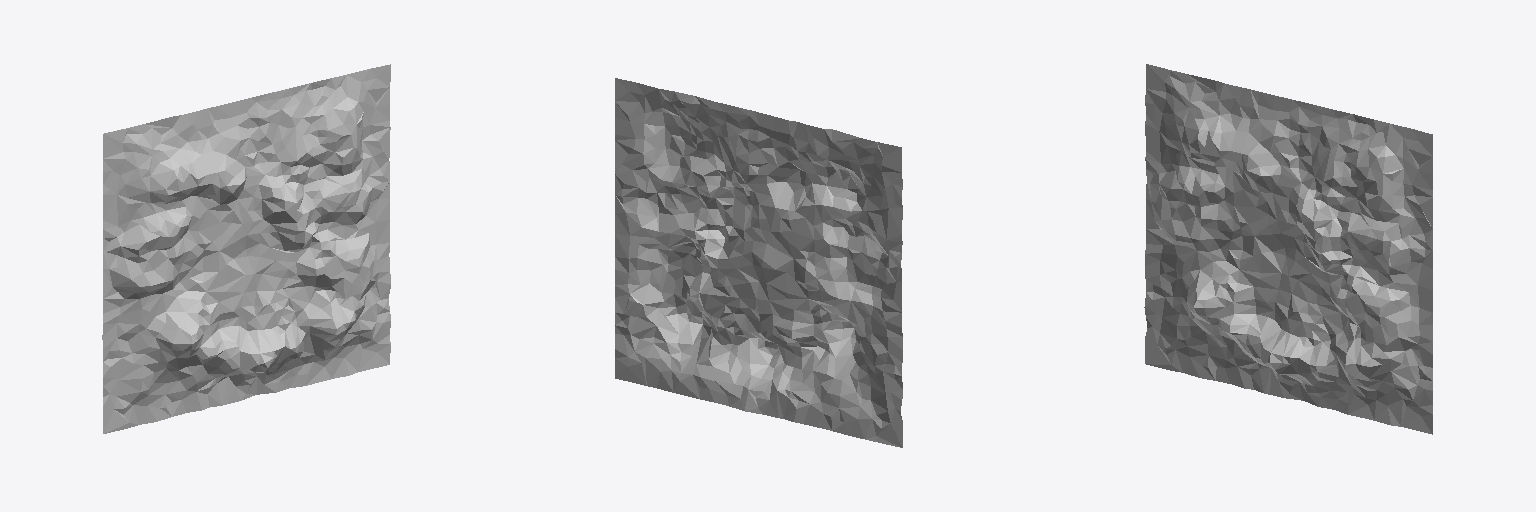
Rendered from place.obj.
3 views of the same model, side by side, from view 1: azimuth 30°, elevation 25°; view 2: azimuth 150°, elevation 25°; view 3: azimuth 330°, elevation 25° (orthographic).
Parts seen in each view (by area): view 1: Plane; view 2: Plane; view 3: Plane.
Boxes of the visible parts, x1=… form: Plane: x1=102, y1=64, x2=390, y2=433; Plane: x1=615, y1=78, x2=902, y2=447; Plane: x1=1144, y1=64, x2=1432, y2=434.
Size of the model in its own units: 20.1 by 20.1 by 2.73.